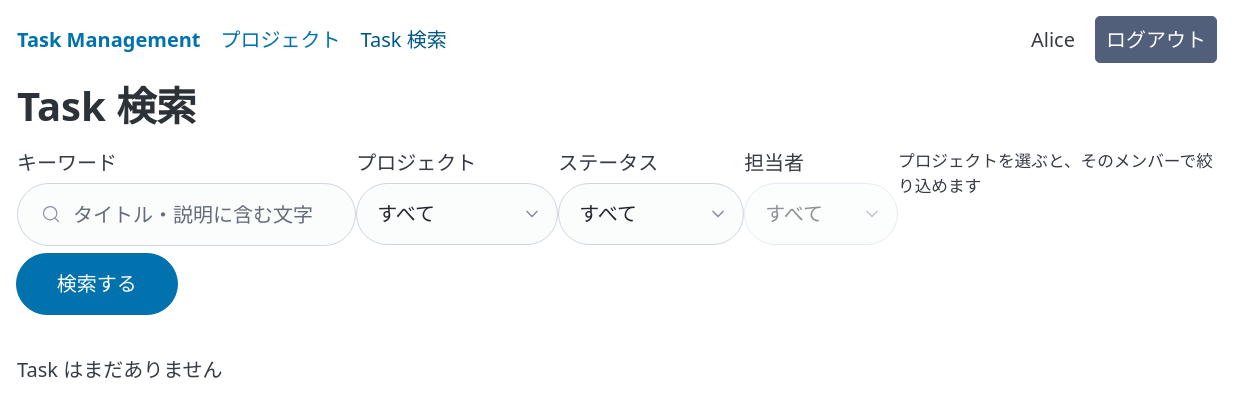
Scenario: Task 検索 › 条件なしで Task が無ければ「Task はまだありません」、条件を付けて無ければ「条件に一致する Task はありません」
Expected: the text "Task はまだありません" is shown, top-left (17, 356), bottom-right (223, 383)
Select "完了" in the dropdown labelled "ステータス" at (651, 214), box top-left (558, 183), bottom-right (744, 245)
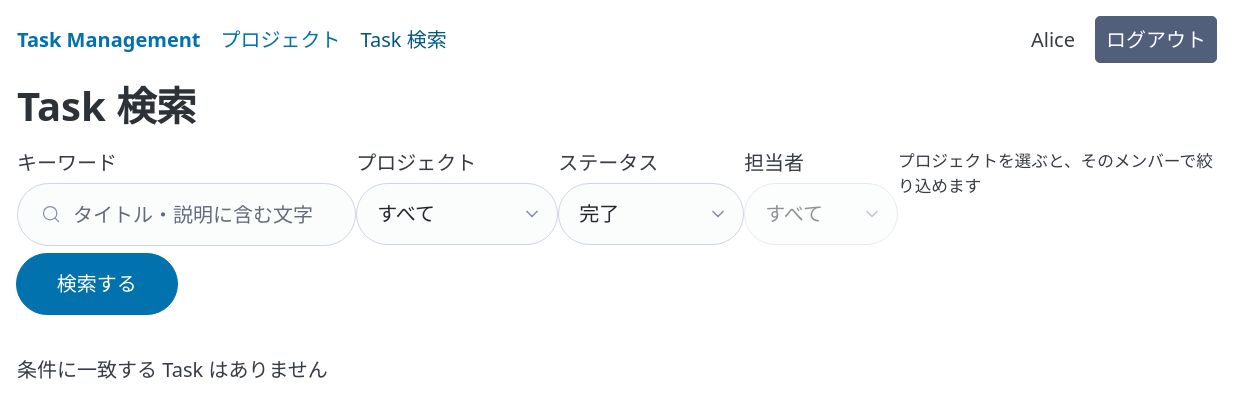
Expected: the text "条件に一致する Task はありません" is shown, top-left (17, 356), bottom-right (328, 383)
